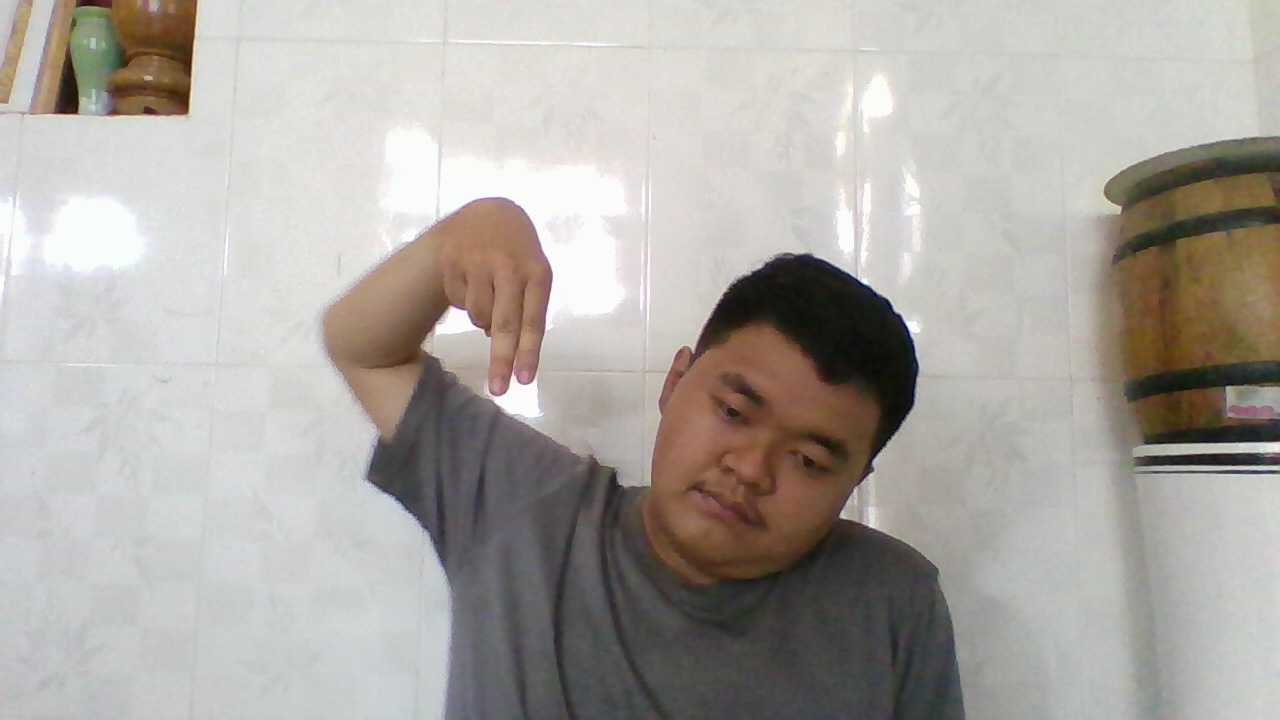N: (431, 180, 556, 403)
